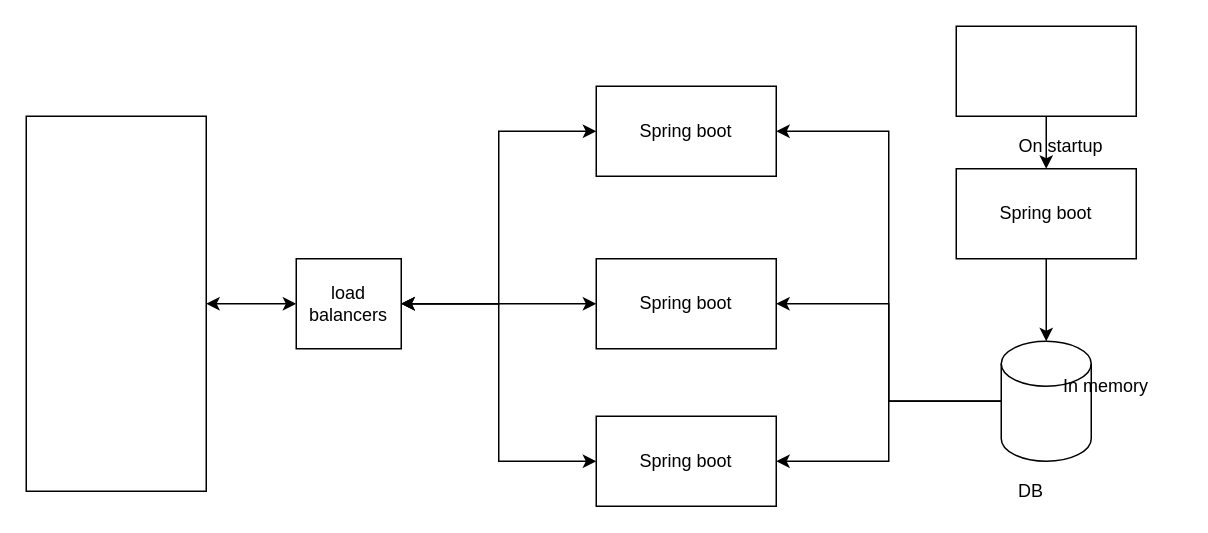
Some shapes in this 1208 by 533 pixel diagram are drawn without their labels. The centre of each missing label's shape, as x and y in pixels:
"CSV Data Source" belongs at (1045,70).
"React App" belongs at (115,303).
